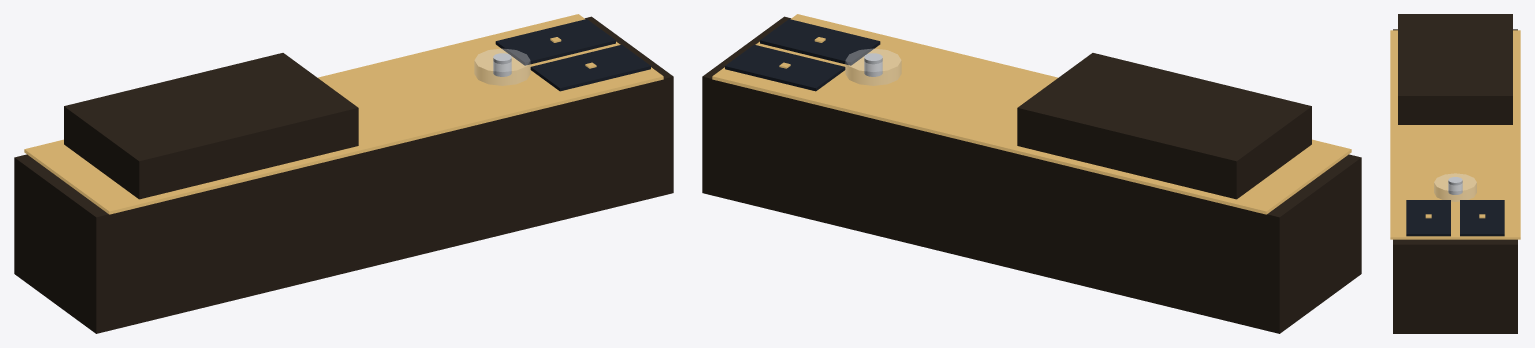
Rendered from center_console_executive.glb.
The picture shows the model from 3 angles, left to right: view 1: azimuth 30°, elevation 25°; view 2: azimuth 150°, elevation 25°; view 3: azimuth 270°, elevation 25°; orthographic projection. The views are drawn at different scales.
Visible parts, largest first — view 1: CenterConsole_crystal_rotary_dial; view 2: CenterConsole_crystal_rotary_dial; view 3: CenterConsole_crystal_rotary_dial.
Part boxes in pixels (x1,y1,x2,y2): CenterConsole_crystal_rotary_dial: (14,14,673,333); CenterConsole_crystal_rotary_dial: (702,14,1361,333); CenterConsole_crystal_rotary_dial: (1390,14,1520,333).
Size of the model in its own units: 1.14 by 0.3 by 0.2912.
